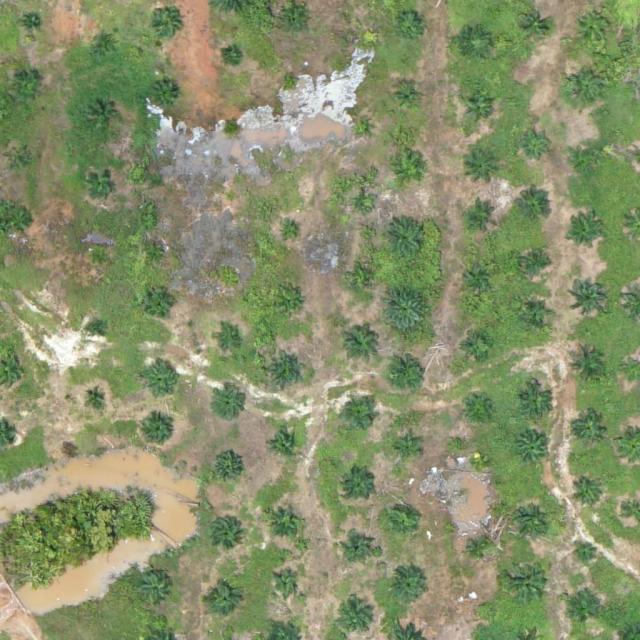Small: (384, 351, 431, 399), (384, 286, 431, 334), (381, 215, 428, 262), (506, 555, 553, 602), (563, 67, 603, 107), (569, 275, 608, 315), (339, 323, 379, 362), (517, 383, 557, 422), (267, 352, 307, 391), (139, 412, 178, 452), (514, 191, 554, 230), (567, 215, 606, 254), (337, 600, 376, 639), (512, 503, 551, 542), (567, 348, 606, 387), (516, 432, 555, 471), (387, 567, 426, 606), (266, 501, 305, 540), (141, 361, 180, 400), (465, 148, 504, 187), (575, 7, 614, 46), (8, 206, 39, 238), (207, 585, 238, 617), (214, 389, 245, 421), (141, 576, 172, 608), (212, 452, 243, 484), (269, 429, 300, 461), (145, 287, 176, 319), (461, 28, 492, 60), (396, 10, 427, 42), (520, 10, 551, 42), (573, 143, 604, 175), (522, 129, 553, 161), (465, 92, 496, 124), (345, 530, 376, 561), (346, 401, 377, 432), (344, 470, 375, 501), (463, 391, 494, 422), (462, 331, 493, 362), (576, 413, 607, 444), (565, 597, 596, 628), (386, 505, 417, 536), (210, 516, 241, 547), (395, 156, 426, 187), (465, 532, 496, 563), (282, 6, 313, 37), (521, 247, 552, 278), (522, 300, 553, 331), (463, 260, 494, 291), (466, 200, 497, 231), (393, 83, 424, 114), (573, 478, 604, 509), (150, 10, 181, 41), (152, 81, 183, 112), (88, 168, 119, 199), (88, 101, 119, 132), (92, 30, 123, 61), (13, 74, 44, 105), (395, 436, 419, 460), (215, 330, 239, 354), (574, 541, 598, 565), (281, 294, 304, 318), (274, 572, 297, 596), (86, 387, 109, 411), (88, 247, 112, 270), (9, 150, 33, 173), (146, 243, 169, 267), (357, 272, 373, 288), (89, 322, 105, 338), (224, 191, 240, 207), (225, 49, 240, 65), (356, 199, 372, 214), (283, 225, 298, 241), (470, 454, 486, 469), (475, 600, 490, 616), (24, 15, 39, 31), (353, 119, 368, 134), (283, 73, 298, 88)
